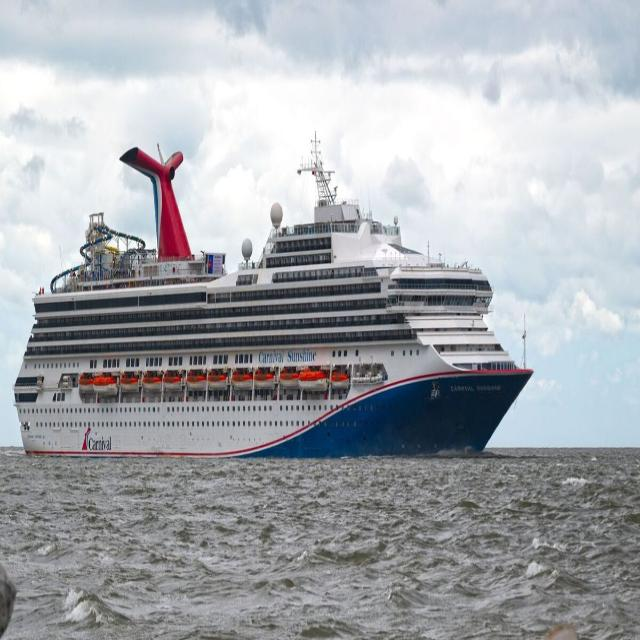PassengerShip: (18, 127, 544, 479)
